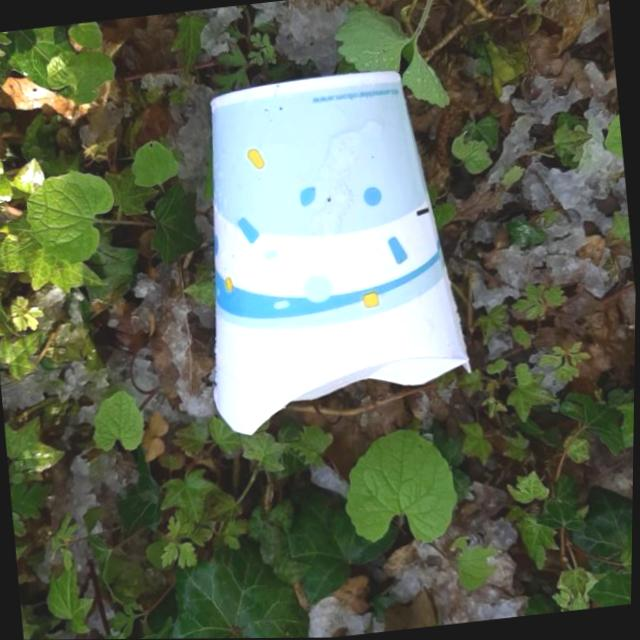Paper: (173, 57, 486, 442)
